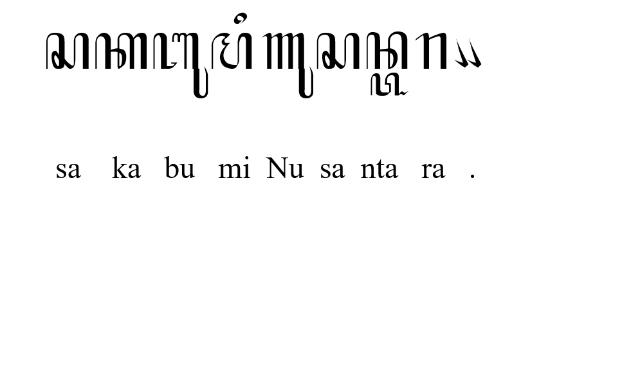Nu: (262, 33, 314, 99)
_t: (370, 72, 408, 96)
bu: (152, 32, 208, 100)
i: (234, 12, 248, 24)
k: (94, 32, 148, 70)
kom: (452, 39, 468, 69), (467, 39, 481, 68)
m: (210, 32, 252, 70)
n: (366, 32, 408, 70)
r: (414, 32, 448, 70)
s: (316, 32, 360, 70), (46, 32, 88, 70)
